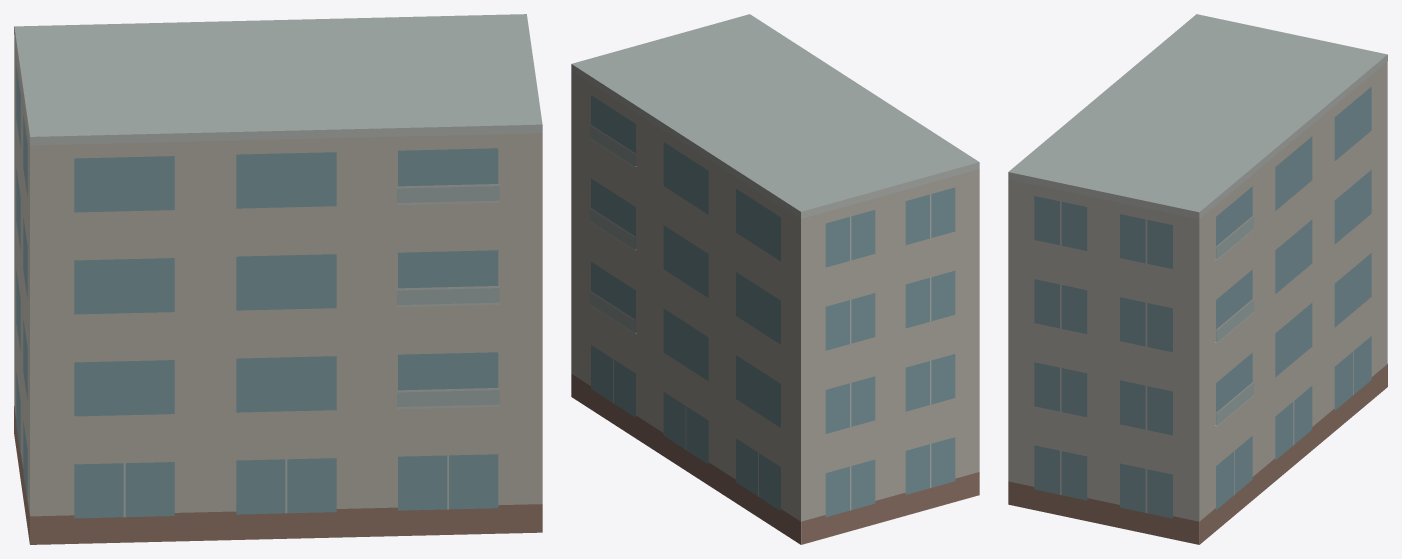
Rendered from survey-upis-32531697.glb.
3 renders of one model, left to right at view 1: azimuth 30°, elevation 25°; view 2: azimuth 150°, elevation 25°; view 3: azimuth 270°, elevation 25°, orthographic. The views are drawn at different scales.
Visible parts, largest first — view 1: survey-upis-32531697.tmp; view 2: survey-upis-32531697.tmp; view 3: survey-upis-32531697.tmp.
Part boxes in pixels (<box>): survey-upis-32531697.tmp: <box>14,14,542,544</box>; survey-upis-32531697.tmp: <box>571,14,979,544</box>; survey-upis-32531697.tmp: <box>1008,14,1387,544</box>.
Size of the model in its own units: 14.84 by 11.6 by 12.01.
